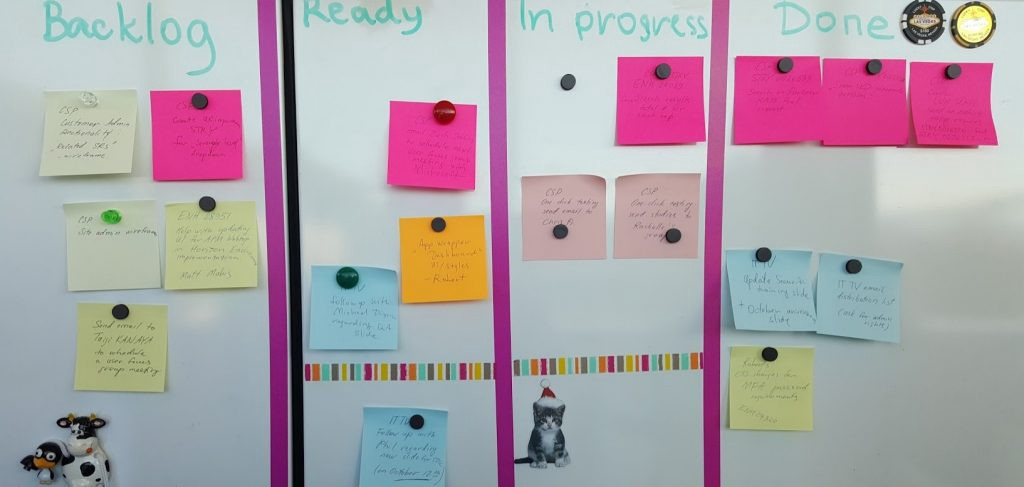stickynote: (62, 196, 164, 291), (37, 85, 142, 177), (148, 87, 246, 184), (729, 50, 826, 145), (720, 245, 818, 338), (814, 248, 907, 346), (906, 58, 1000, 154), (820, 55, 913, 152), (72, 299, 170, 391), (614, 52, 708, 147), (163, 200, 259, 291), (387, 97, 478, 193), (397, 211, 490, 304), (306, 260, 401, 351), (520, 170, 612, 261), (725, 342, 818, 432), (611, 170, 700, 261), (357, 401, 447, 487)
